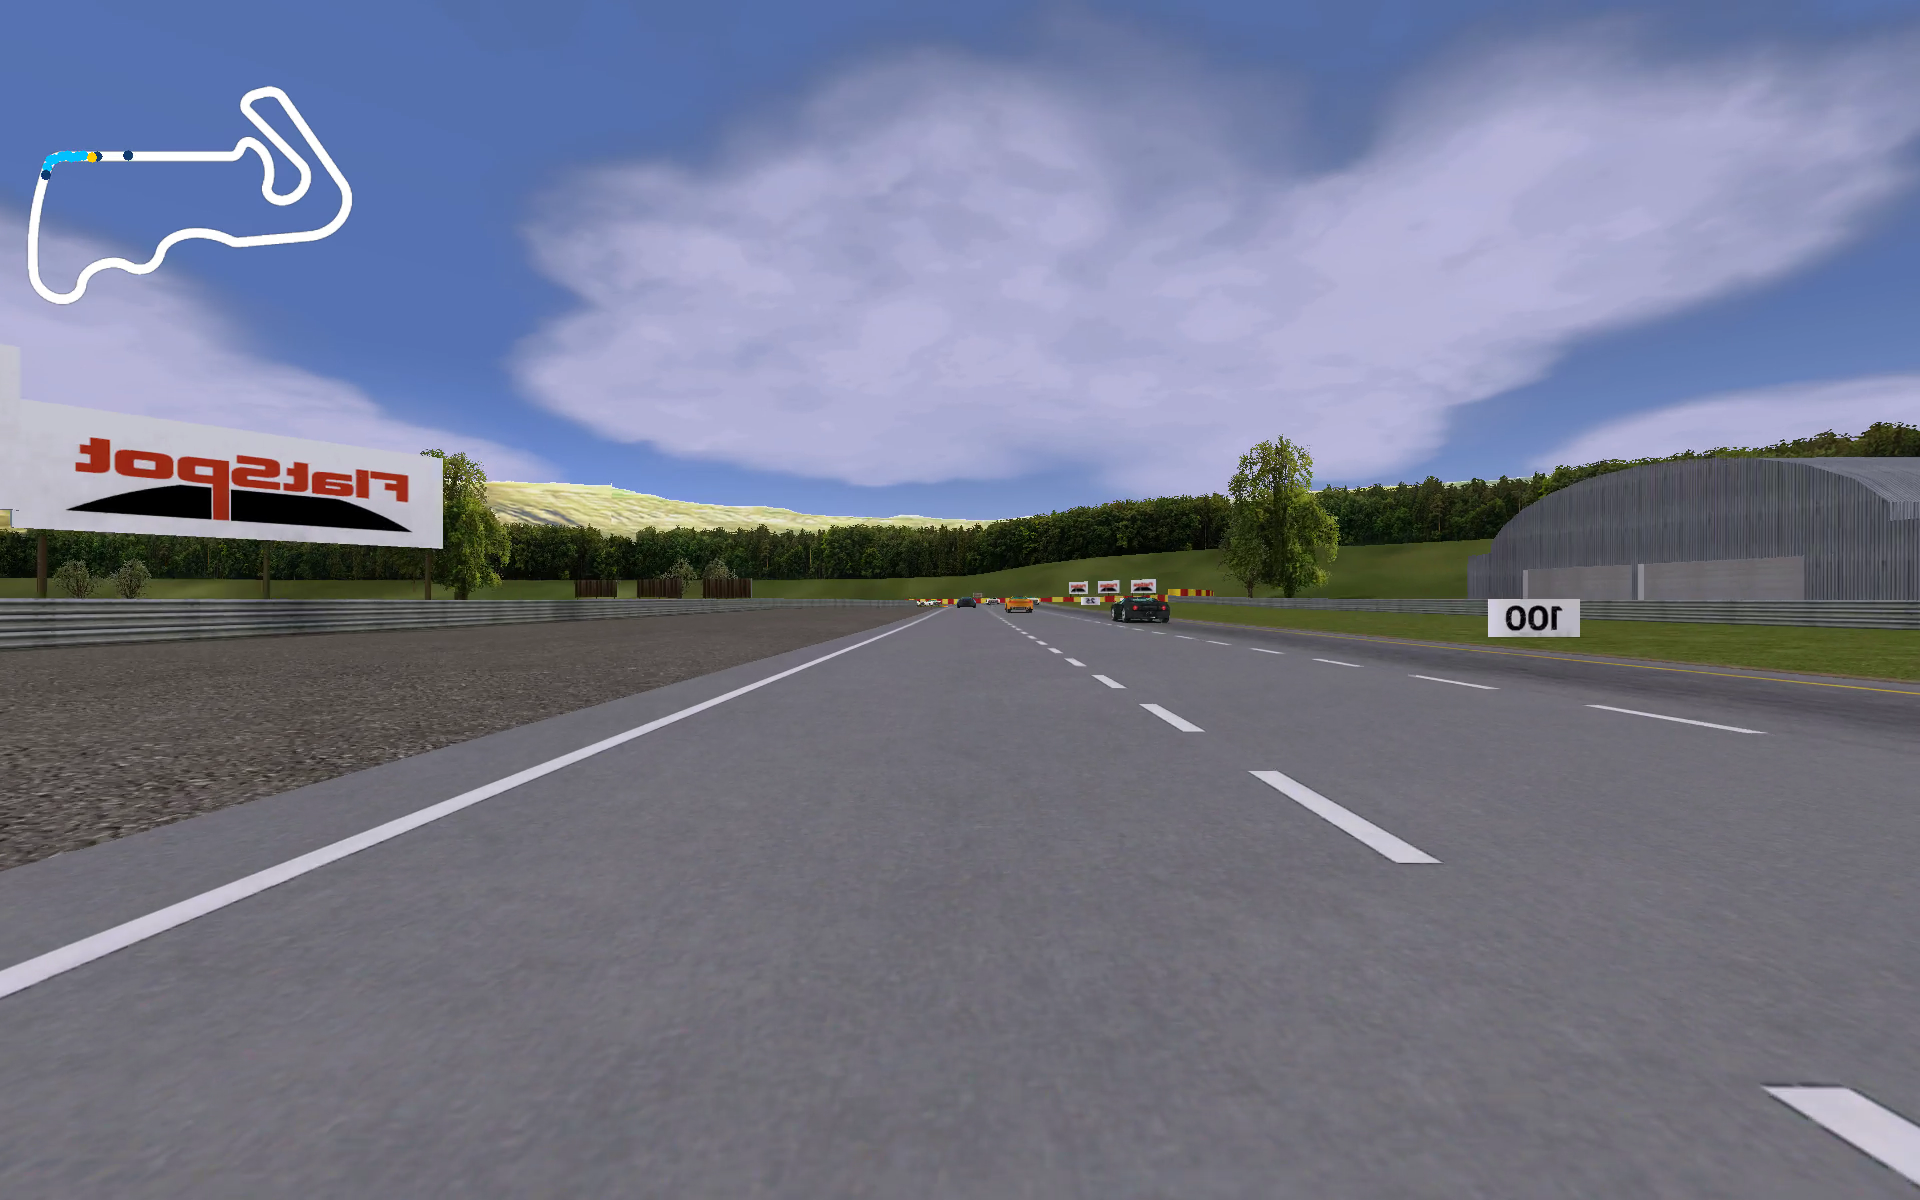car: (1106, 596, 1178, 628), (1001, 592, 1035, 617)
